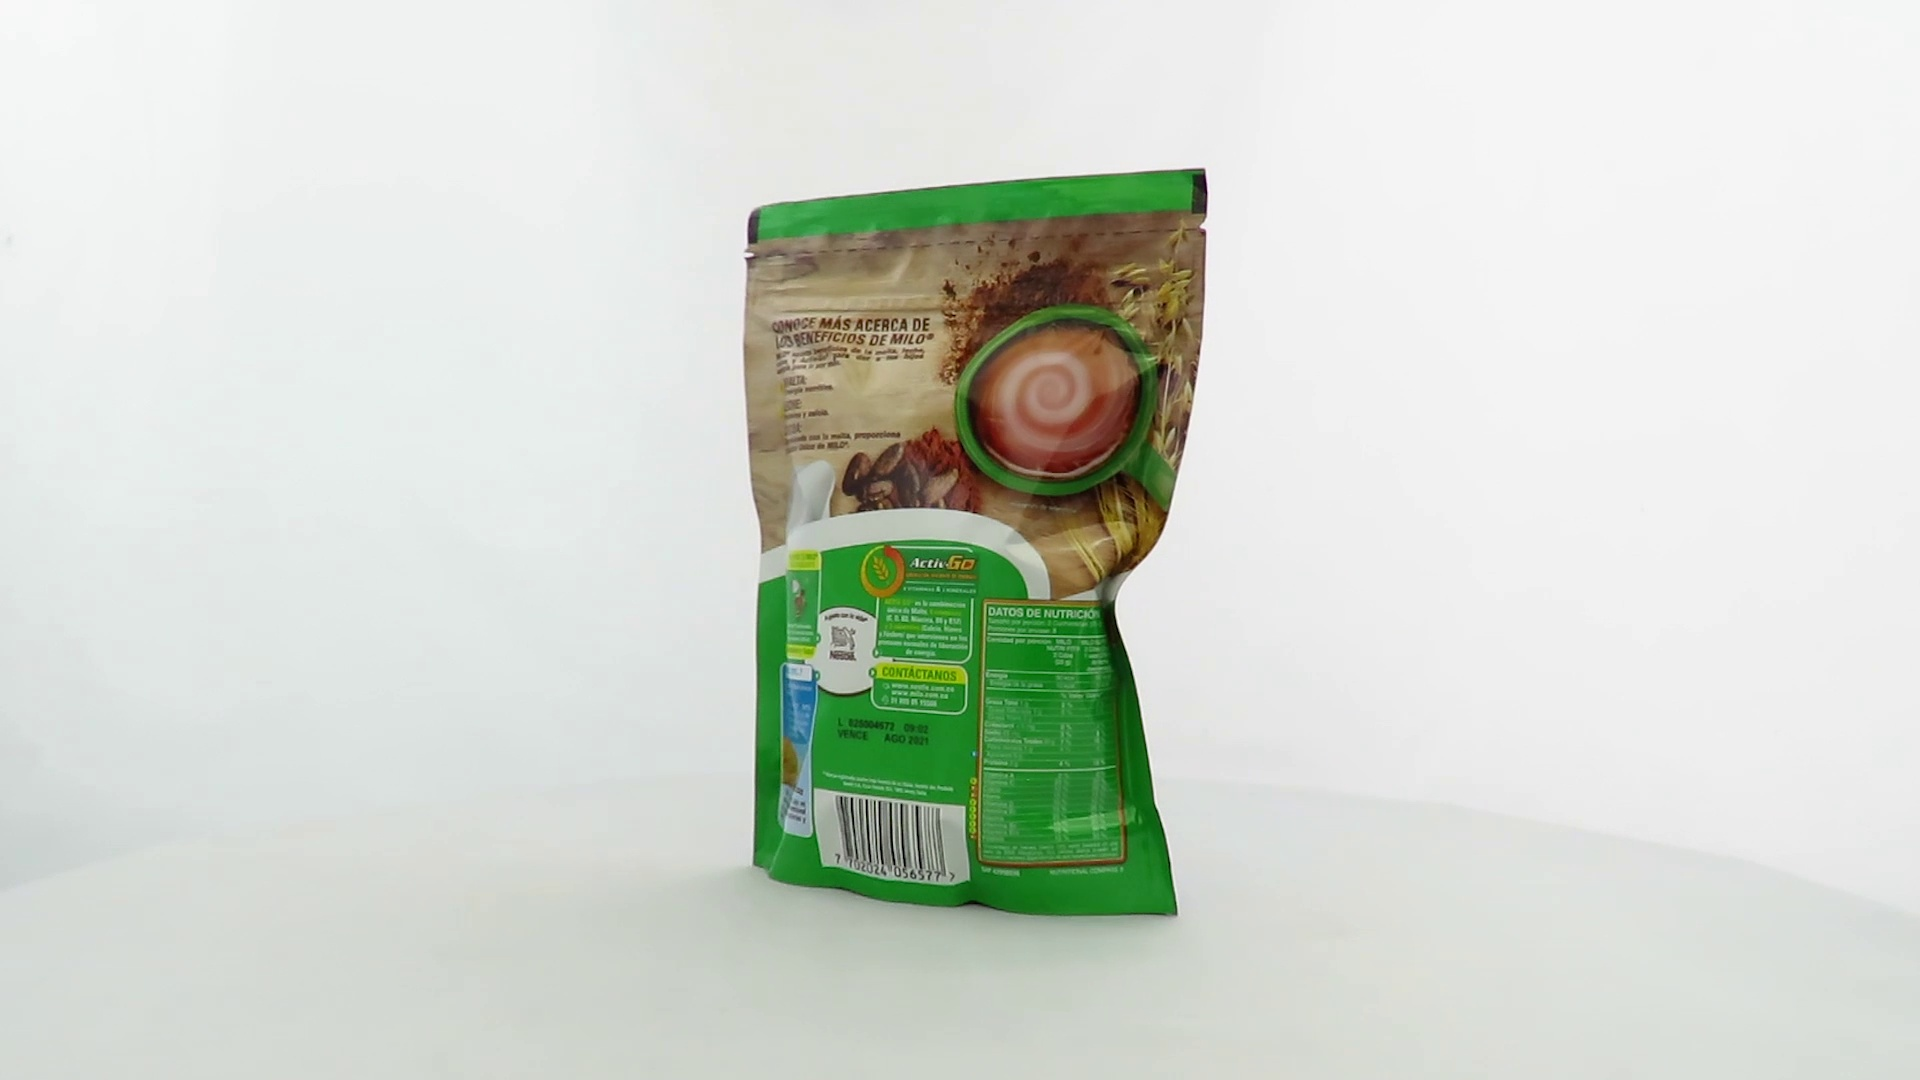COL0170205DYP20000: (738, 164, 1215, 923)
